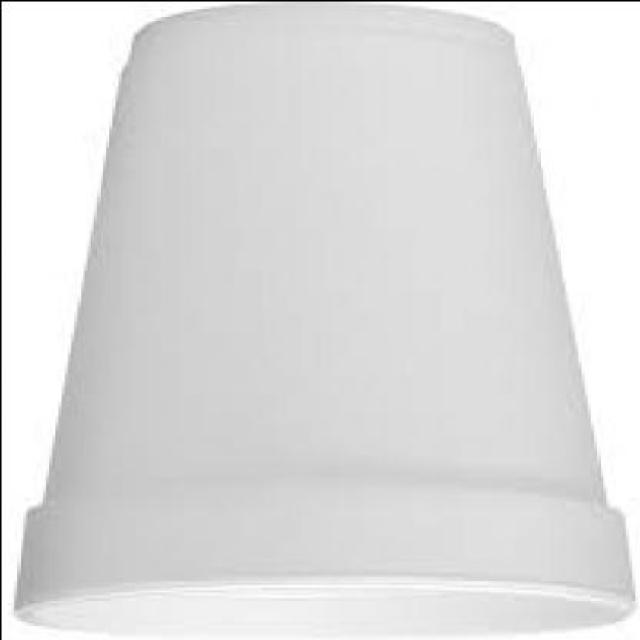PAPER: (16, 1, 638, 638)
